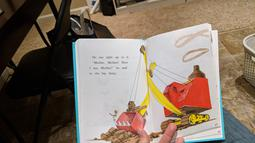text block: (86, 53, 133, 81)
